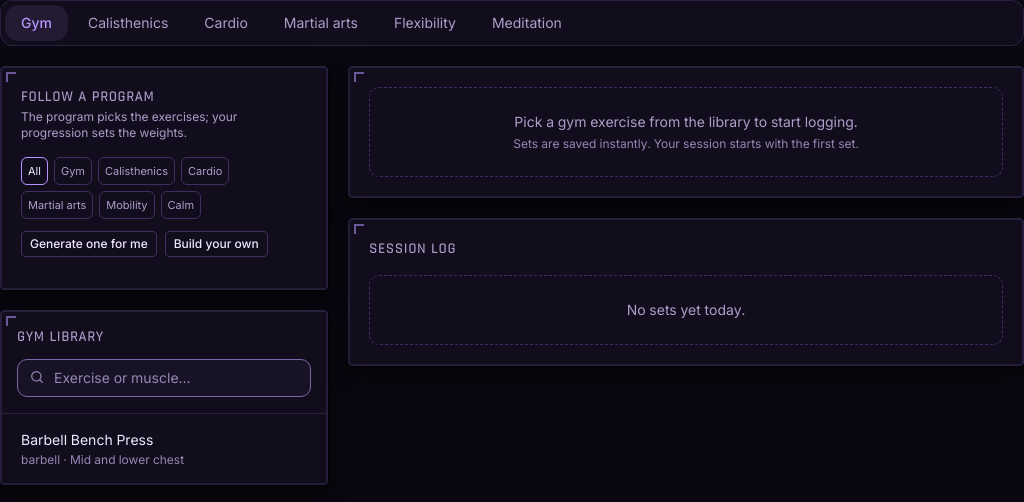
Test: Training page › switches section tabs and loads that library
The width and height of the screenshot is (1024, 502).
expect the text "Barbell Bench Press" is shown: met, box [21,431,153,448]
Click the tab "Cardio" at (226, 23), box [188,5,264,41]
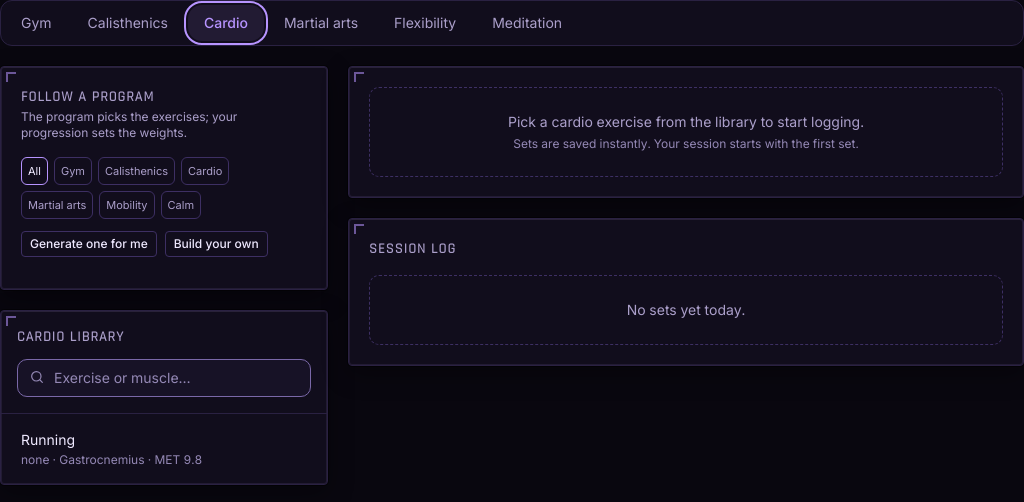
expect the text "Running" is shown: met, box [21,431,75,448]
